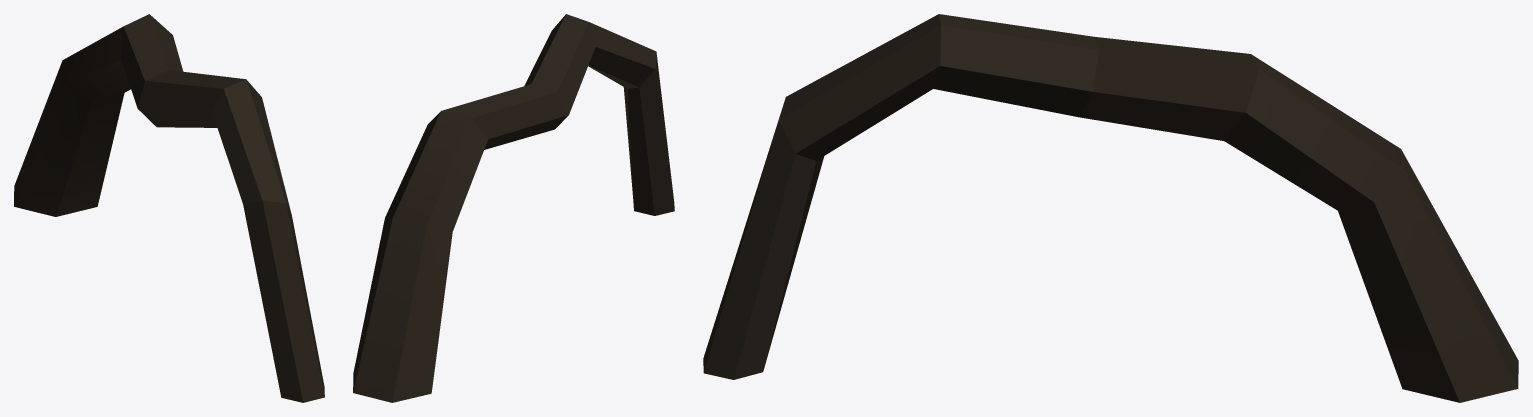
File: synty-swamp-root-01.gltf
The picture shows the model from 3 angles, left to right: view 1: azimuth 30°, elevation 25°; view 2: azimuth 150°, elevation 25°; view 3: azimuth 270°, elevation 25°; orthographic projection. The views are drawn at different scales.
Parts seen in each view (by area): view 1: SM_Swamp_Root_01; view 2: SM_Swamp_Root_01; view 3: SM_Swamp_Root_01.
Boxes of the visible parts, bbox=[...] form: SM_Swamp_Root_01: bbox=[14, 14, 324, 402]; SM_Swamp_Root_01: bbox=[353, 14, 674, 402]; SM_Swamp_Root_01: bbox=[703, 14, 1518, 402].
Size of the model in its own units: 0.1875 by 0.4831 by 1.01.
1 material, 1 textured.
